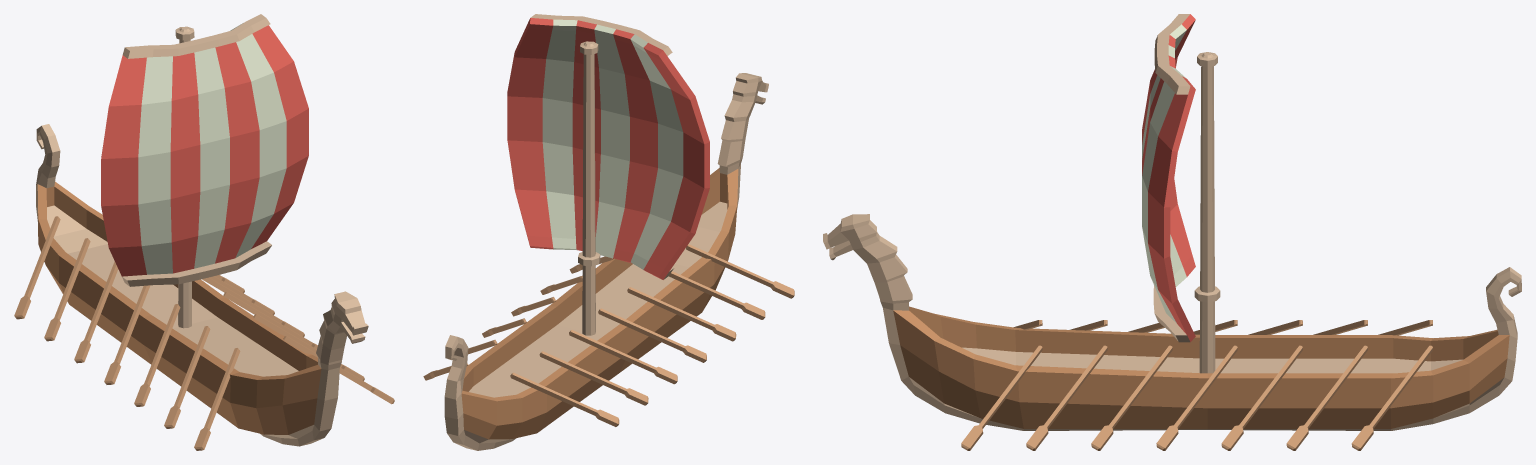
The model's file is Viking_boat.glb.
3 views of the same model, side by side, from view 1: azimuth 30°, elevation 25°; view 2: azimuth 150°, elevation 25°; view 3: azimuth 270°, elevation 25° (orthographic). The views are drawn at different scales.
Parts seen in each view (by area): view 1: Sail, Viking_Ship; view 2: Viking_Ship, Sail; view 3: Viking_Ship, Sail.
Part boxes in pixels (left/top/right/bottom): Sail: left=101, top=14, right=308, bottom=286; Viking_Ship: left=14, top=26, right=394, bottom=450; Viking_Ship: left=423, top=41, right=794, bottom=450; Sail: left=507, top=14, right=709, bottom=279; Viking_Ship: left=823, top=52, right=1521, bottom=450; Sail: left=1142, top=14, right=1195, bottom=342.
Size of the model in its own units: 157 by 251 by 420.
